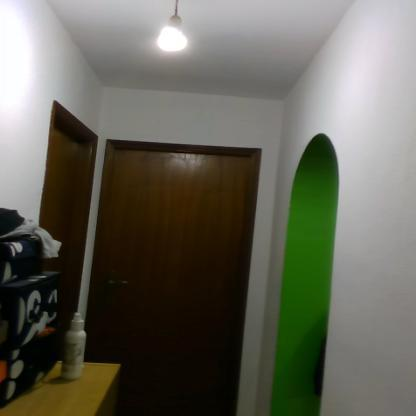door: (96, 147, 248, 416), (52, 119, 84, 330)
lever: (108, 278, 130, 288)
